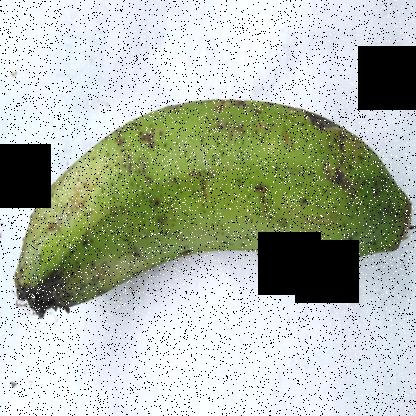unripe: (1, 82, 412, 330)
